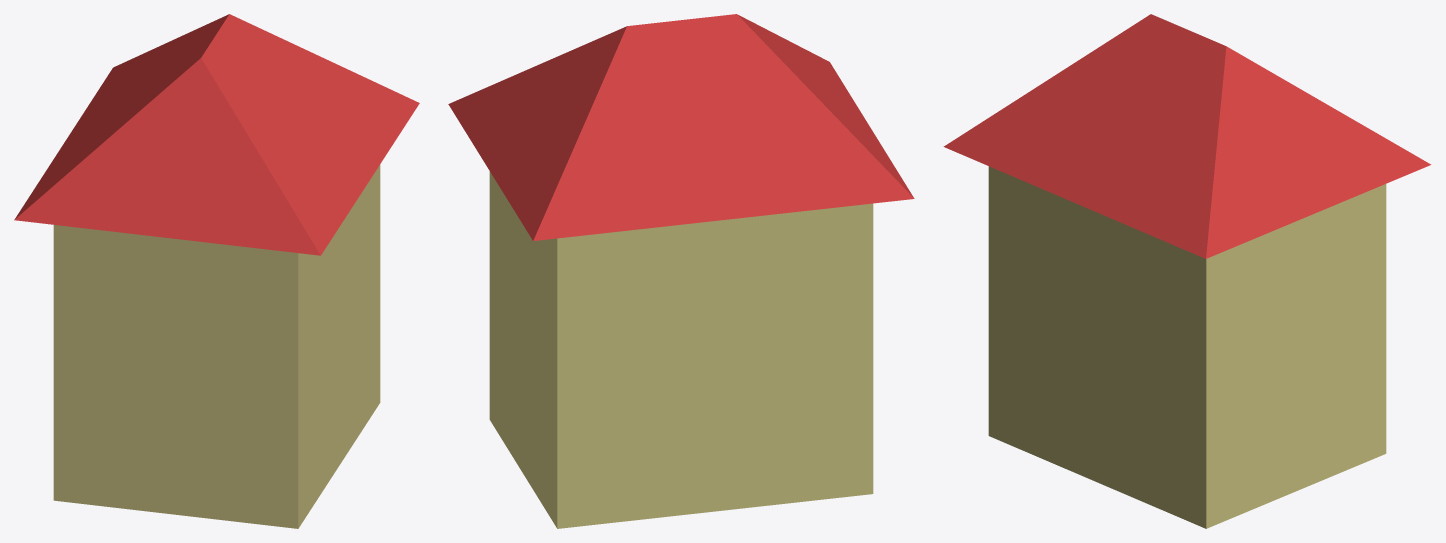
The picture shows the model from 3 angles, left to right: view 1: azimuth 30°, elevation 25°; view 2: azimuth 150°, elevation 25°; view 3: azimuth 270°, elevation 25°; orthographic projection. The views are drawn at different scales.
Parts seen in each view (by area): view 1: group_5, group_3, group_4; view 2: group_5, group_3, group_4; view 3: group_5, group_3, group_4.
Part boxes in pixels (<box>): group_5: <box>53,164,380,528</box>; group_3: <box>14,14,419,254</box>; group_4: <box>14,82,416,255</box>; group_5: <box>489,171,873,528</box>; group_3: <box>450,14,914,240</box>; group_4: <box>448,50,913,239</box>; group_5: <box>988,166,1386,528</box>; group_3: <box>944,14,1431,258</box>; group_4: <box>943,115,1429,258</box>.
Size of the model in its own units: 15.22 by 15.21 by 14.24.
